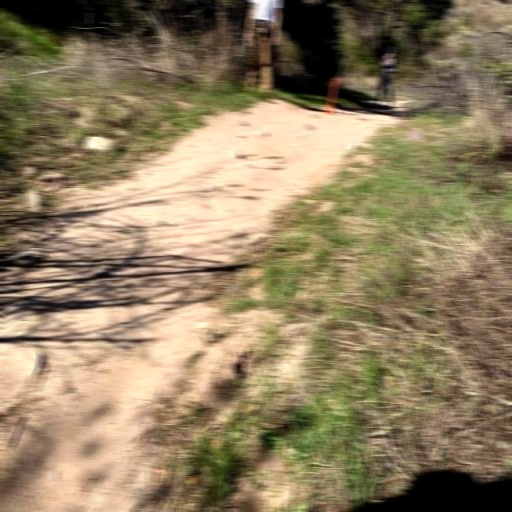mallet: (326, 78, 337, 115)
